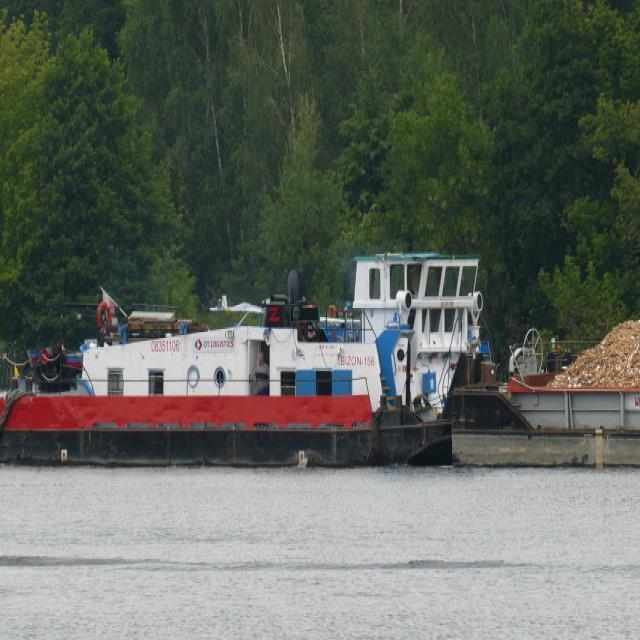tugboat: (1, 243, 486, 480)
